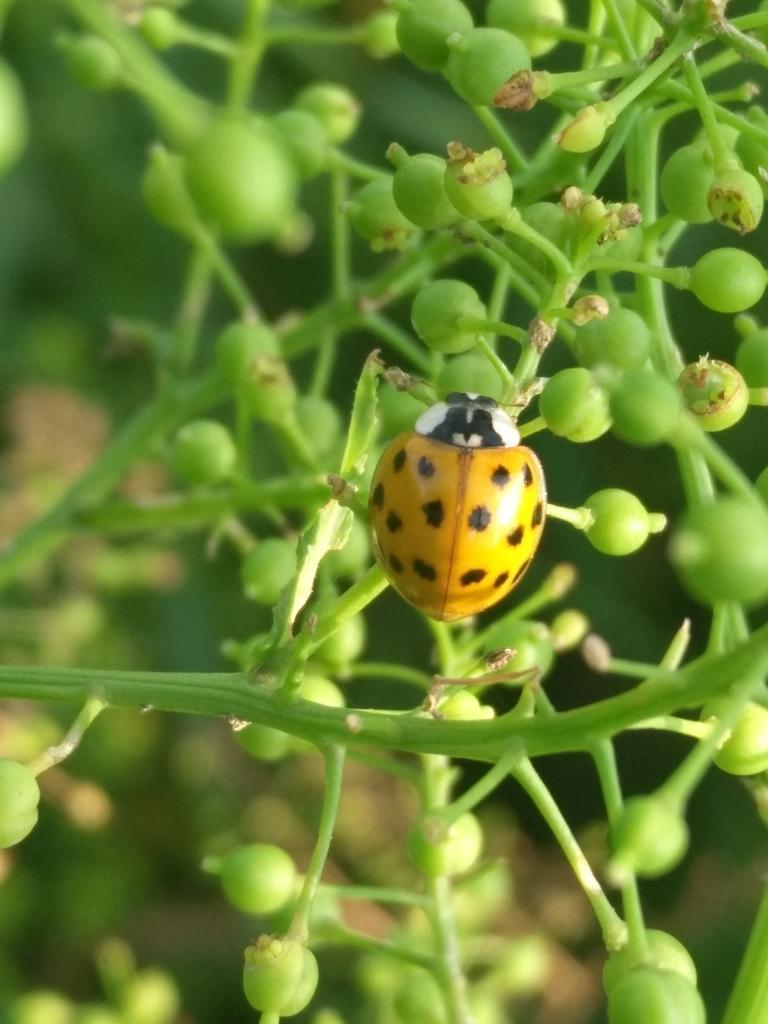ladybug: (366, 386, 554, 631)
